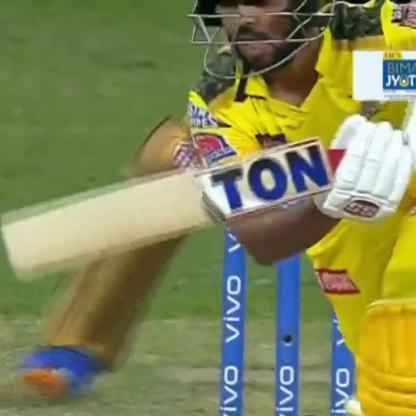bat: (0, 132, 334, 272)
